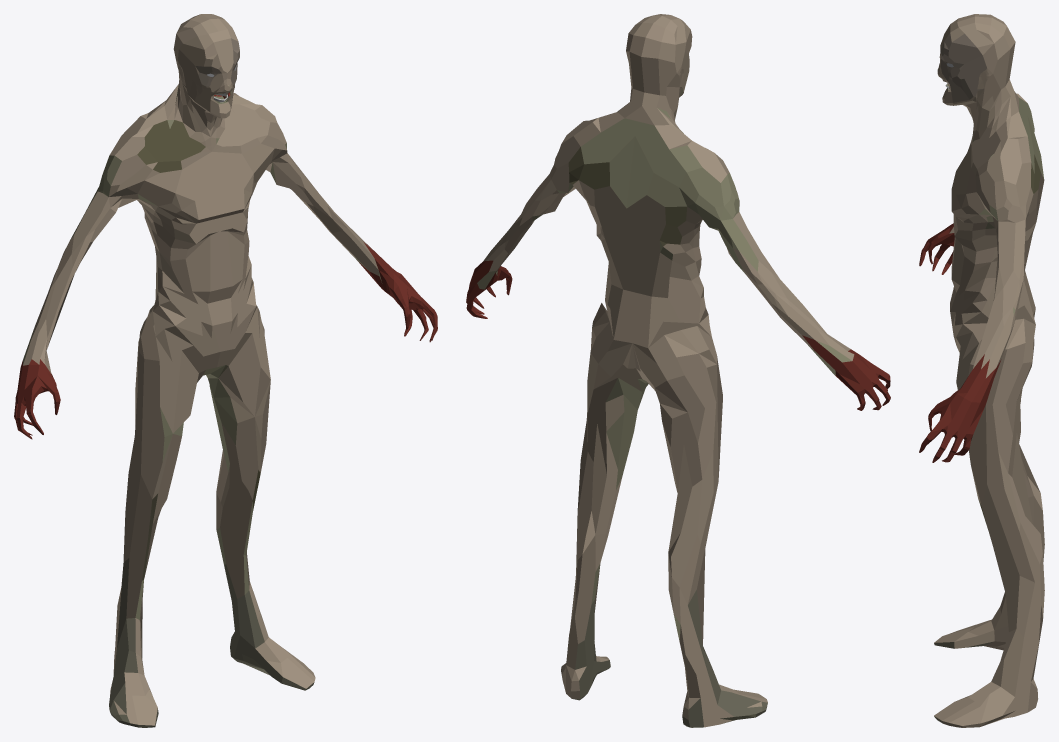
Rendered from ZOMBIV1.fbx.
3 renders of one model, left to right at view 1: azimuth 30°, elevation 25°; view 2: azimuth 150°, elevation 25°; view 3: azimuth 270°, elevation 25°, orthographic.
Parts seen in each view (by area): view 1: 2.005; view 2: 2.005; view 3: 2.005.
Part boxes in pixels (x1,y1,x2,y2): 2.005: (14, 14, 437, 727); 2.005: (466, 14, 890, 727); 2.005: (919, 14, 1044, 727).
Size of the model in its own units: 4661 by 7204 by 1234.
1 material, 1 textured.
